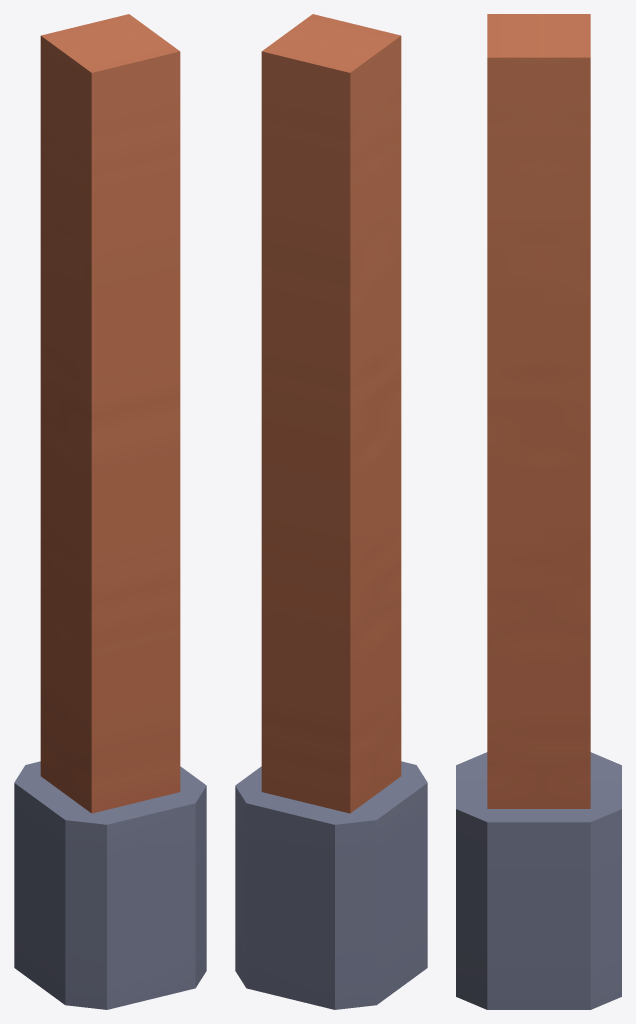
Rendered from pillarWood.fbx.
The picture shows the model from 3 angles, left to right: view 1: azimuth 30°, elevation 25°; view 2: azimuth 150°, elevation 25°; view 3: azimuth 270°, elevation 25°; orthographic projection.
Visible parts, largest first — view 1: pillarWood; view 2: pillarWood; view 3: pillarWood.
Boxes of the visible parts, x1,y1,x2,y2 form: pillarWood: [14, 14, 206, 1009]; pillarWood: [235, 14, 427, 1009]; pillarWood: [456, 14, 621, 1009].
Bounding box in the file's own units: 0.16 × 0.16 × 1.
